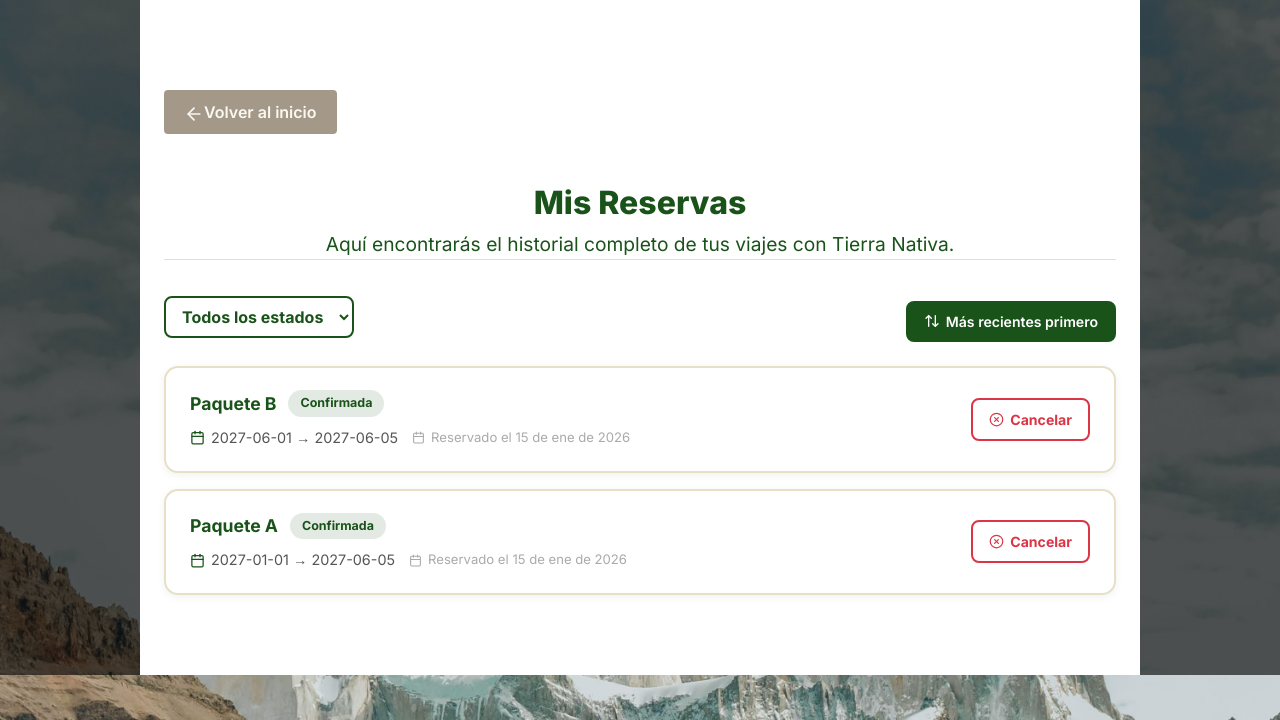
Test case: BookingHistoryPage › should sort bookings by startDate when sort button is clicked
Expected: the heading "Paquete A" is shown, [190,515,278,536]
Click the button "Más recientes primero" at (1011, 321), box [906,301,1116,342]
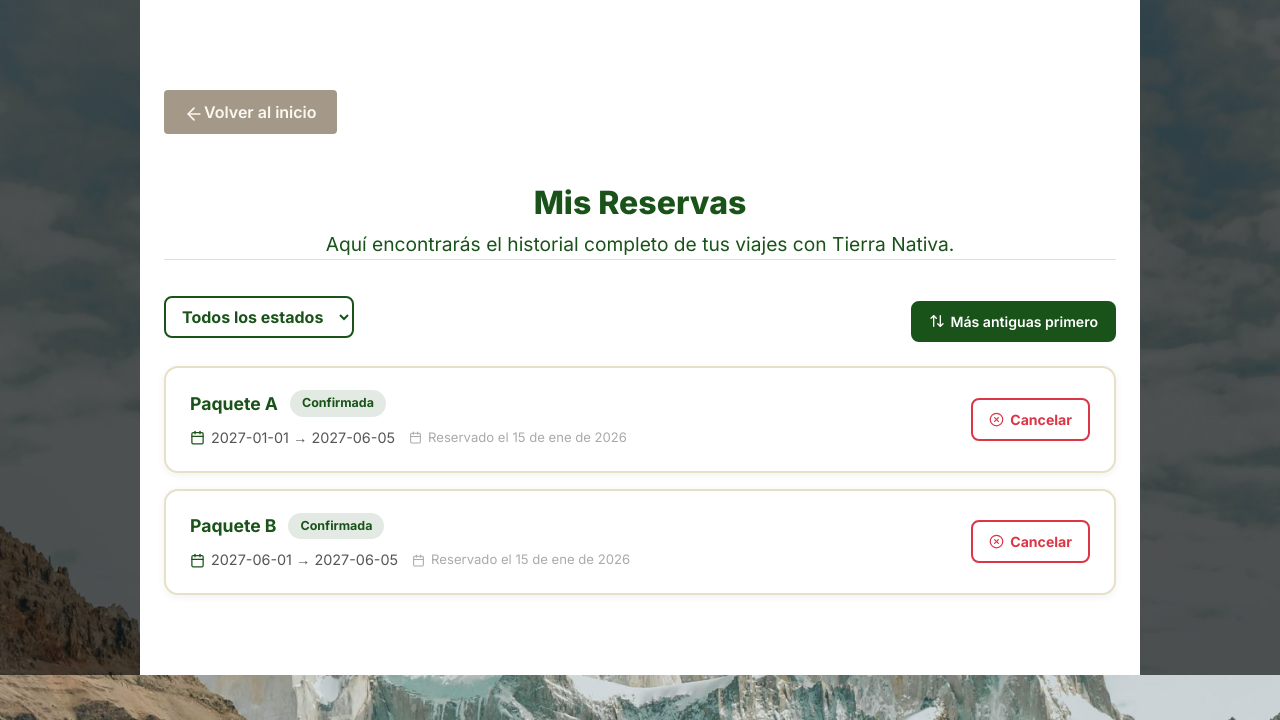
Expected: the button "Más antiguas primero" is shown, [910,301,1116,342]
